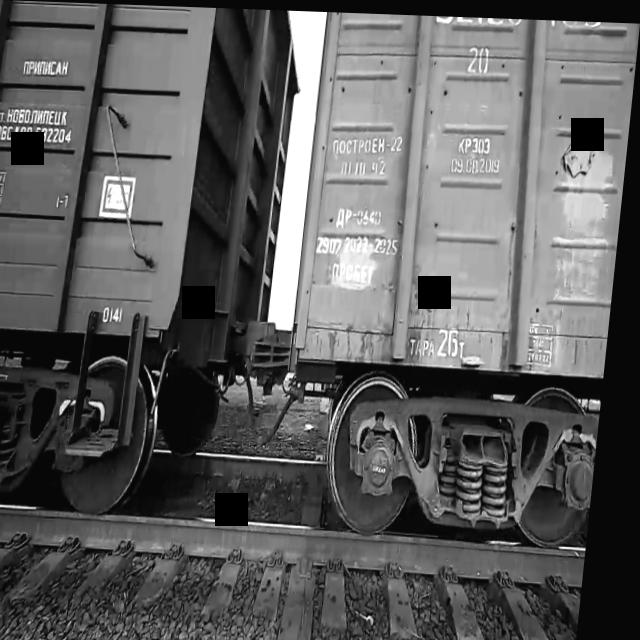boxcar: (270, 9, 640, 567)
gondola: (0, 0, 316, 554)
